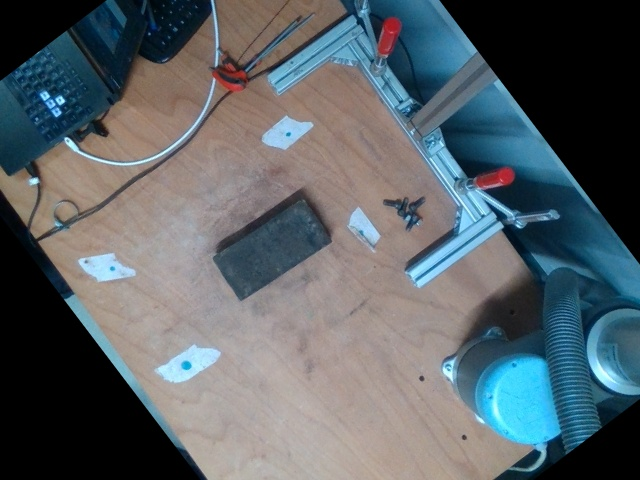brick: (212, 198, 331, 300)
